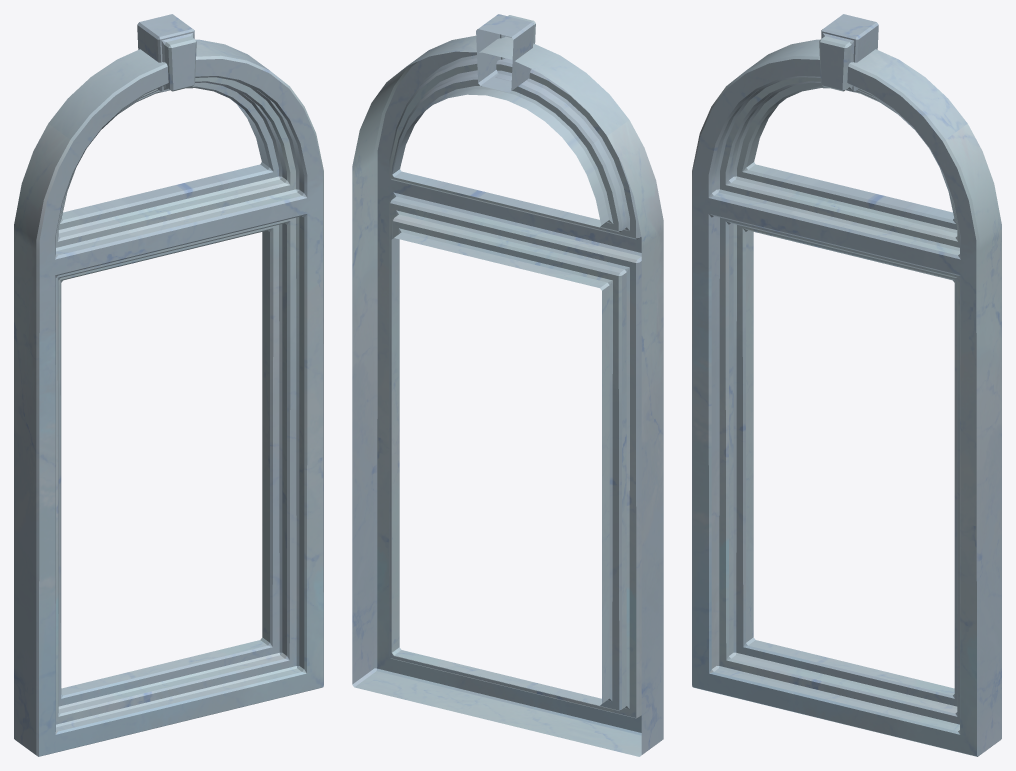
File: Window 3.fbx
3 views of the same model, side by side, from view 1: azimuth 30°, elevation 25°; view 2: azimuth 150°, elevation 25°; view 3: azimuth 330°, elevation 25° (orthographic).
Parts seen in each view (by area): view 1: Window 3; view 2: Window 3; view 3: Window 3.
Boxes of the visible parts, x1,y1,x2,y2 form: Window 3: (14, 14, 323, 756); Window 3: (352, 14, 663, 756); Window 3: (692, 14, 1001, 756).
Bounding box in the file's own units: 69.02 × 157 × 11.62.
